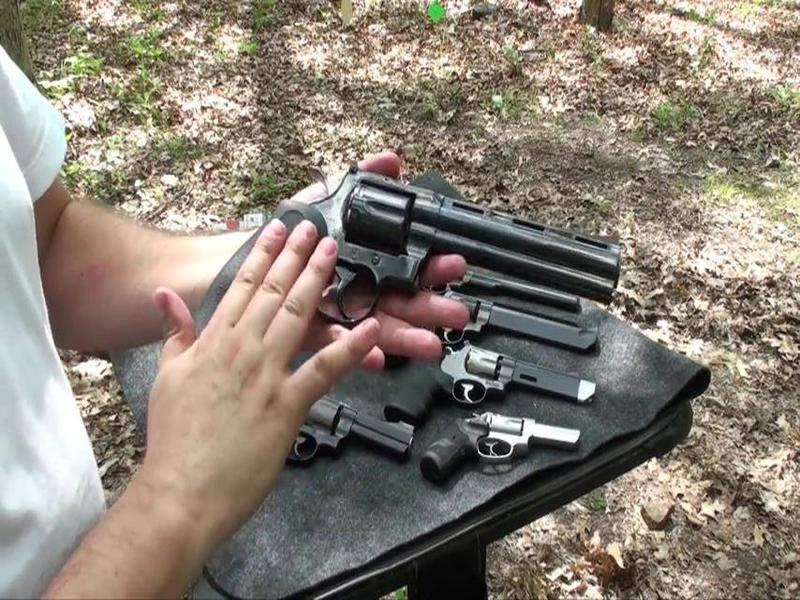Revolver: (225, 144, 643, 370)
